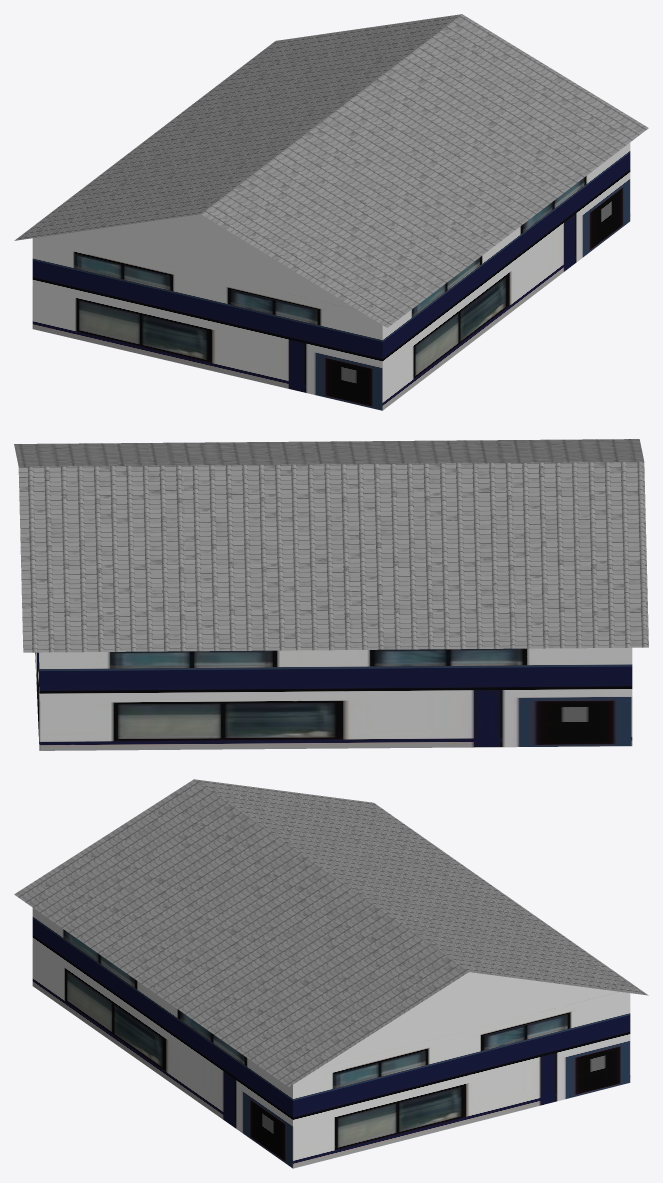
The picture shows the model from 3 angles, top to bottom: view 1: azimuth 30°, elevation 25°; view 2: azimuth 150°, elevation 25°; view 3: azimuth 270°, elevation 25°; orthographic projection. The views are drawn at different scales.
Visible parts, largest first — view 1: CityEngineMaterial_4_m, CityEngineMaterial_2_m, CityEngineMaterial_3_m; view 2: CityEngineMaterial_4_m, CityEngineMaterial_2_m; view 3: CityEngineMaterial_4_m, CityEngineMaterial_2_m, CityEngineMaterial_3_m.
Boxes of the visible parts, x1,y1,x2,y2 form: CityEngineMaterial_4_m: (14,14,648,327); CityEngineMaterial_2_m: (32,143,630,410); CityEngineMaterial_3_m: (45,214,356,309); CityEngineMaterial_4_m: (14,439,648,652); CityEngineMaterial_2_m: (35,647,632,750); CityEngineMaterial_4_m: (14,779,648,1086); CityEngineMaterial_2_m: (32,908,630,1168); CityEngineMaterial_3_m: (319,972,619,1068).
Size of the model in its own units: 47.97 by 12.48 by 45.24.
